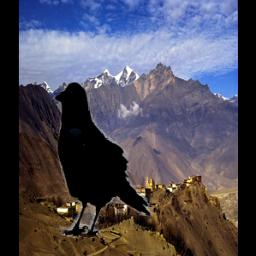Crow: (51, 80, 153, 239)
